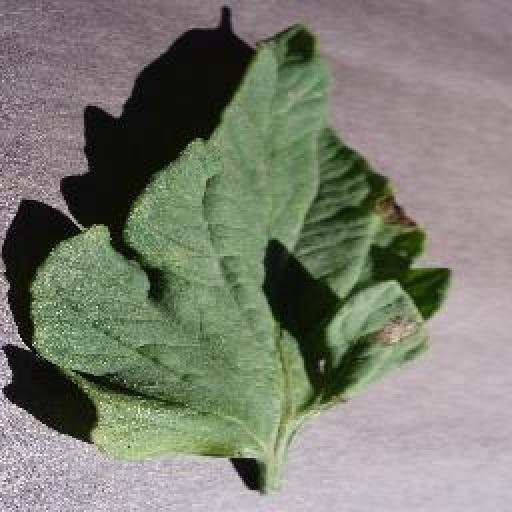Early Blight: (24, 24, 431, 467)
